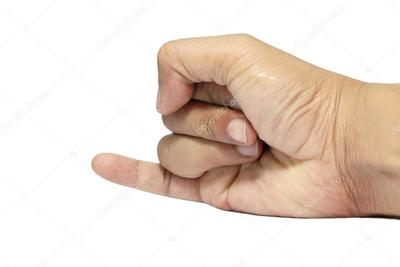closedhandfront: (142, 21, 352, 230)
mindinho: (93, 145, 215, 222)
